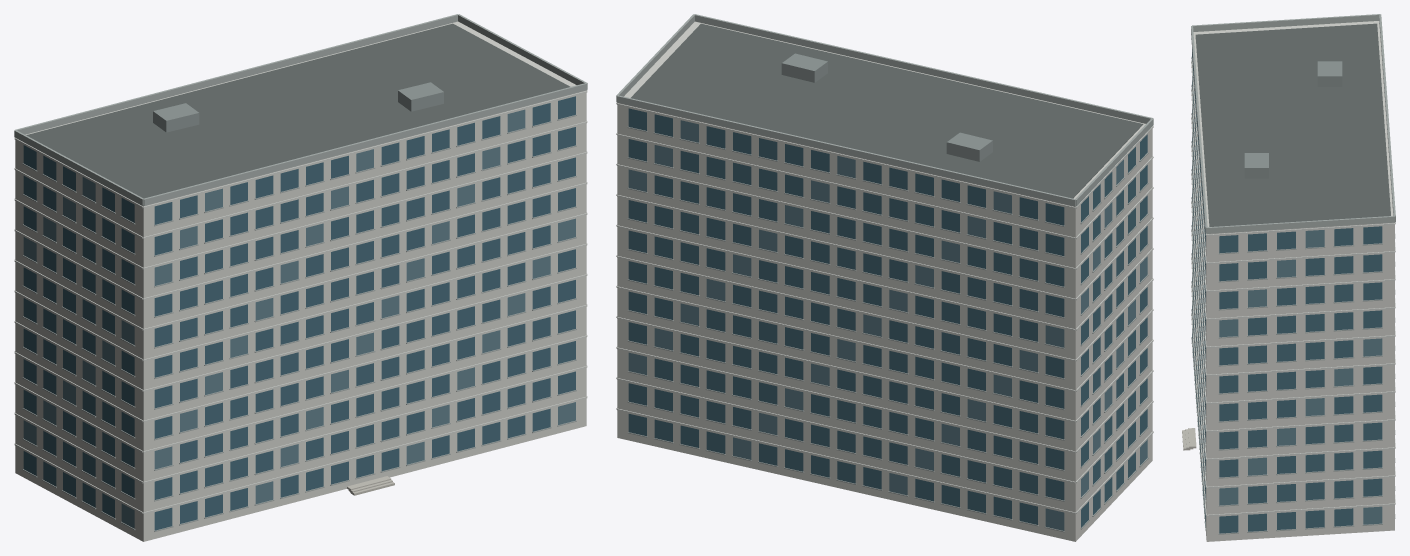
File: 东侧办公园区-010.glb
The picture shows the model from 3 angles, left to right: view 1: azimuth 30°, elevation 25°; view 2: azimuth 150°, elevation 25°; view 3: azimuth 270°, elevation 25°; orthographic projection. The views are drawn at different scales.
Parts seen in each view (by area): view 1: 东侧办公园区-010; view 2: 东侧办公园区-010; view 3: 东侧办公园区-010.
Part boxes in pixels (bbox=[...]): 东侧办公园区-010: bbox=[14, 14, 587, 541]; 东侧办公园区-010: bbox=[616, 14, 1153, 541]; 东侧办公园区-010: bbox=[1182, 14, 1395, 541].
Size of the model in its own units: 58.08 by 40.42 by 24.51.
